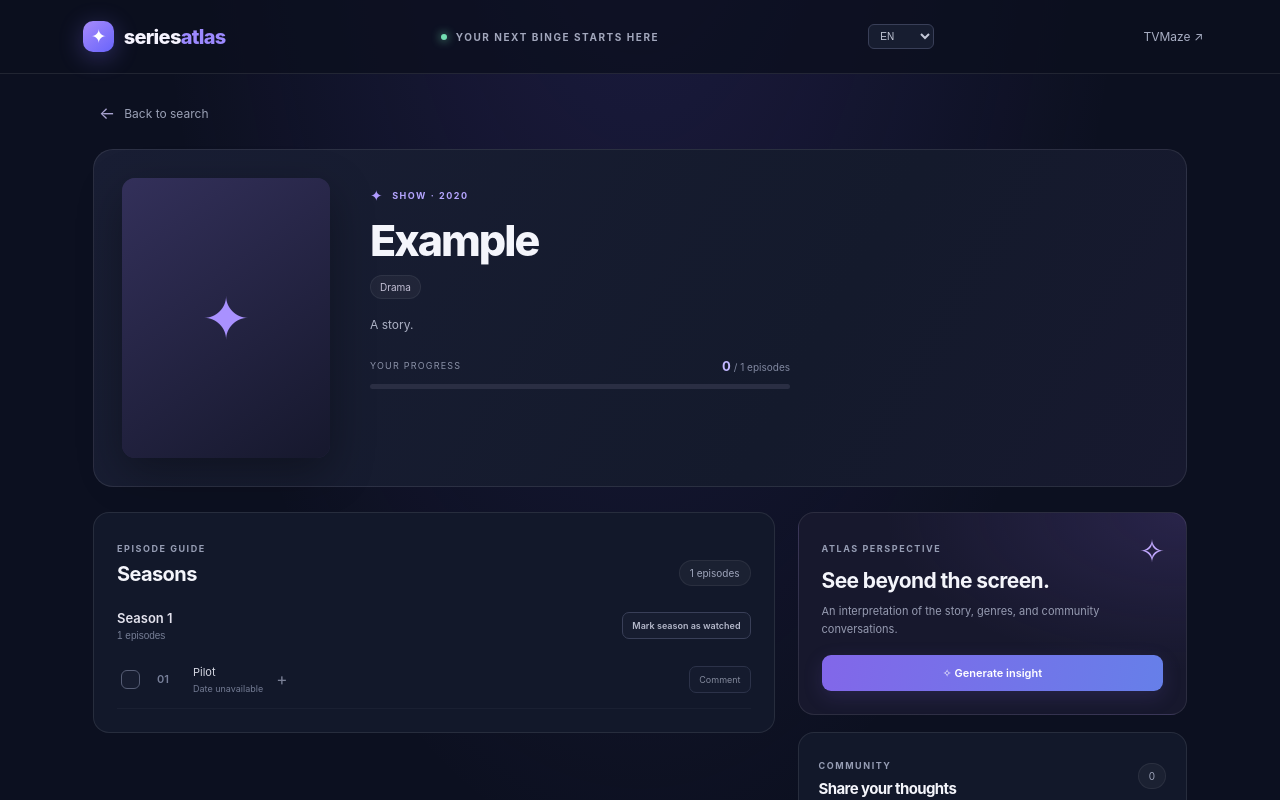
Test case: application entrypoint › marks an entire season as watched
This screenshot has width=1280, height=800.
Click the button "Mark season as watched".
click(686, 626)  # box [622,612,751,639]
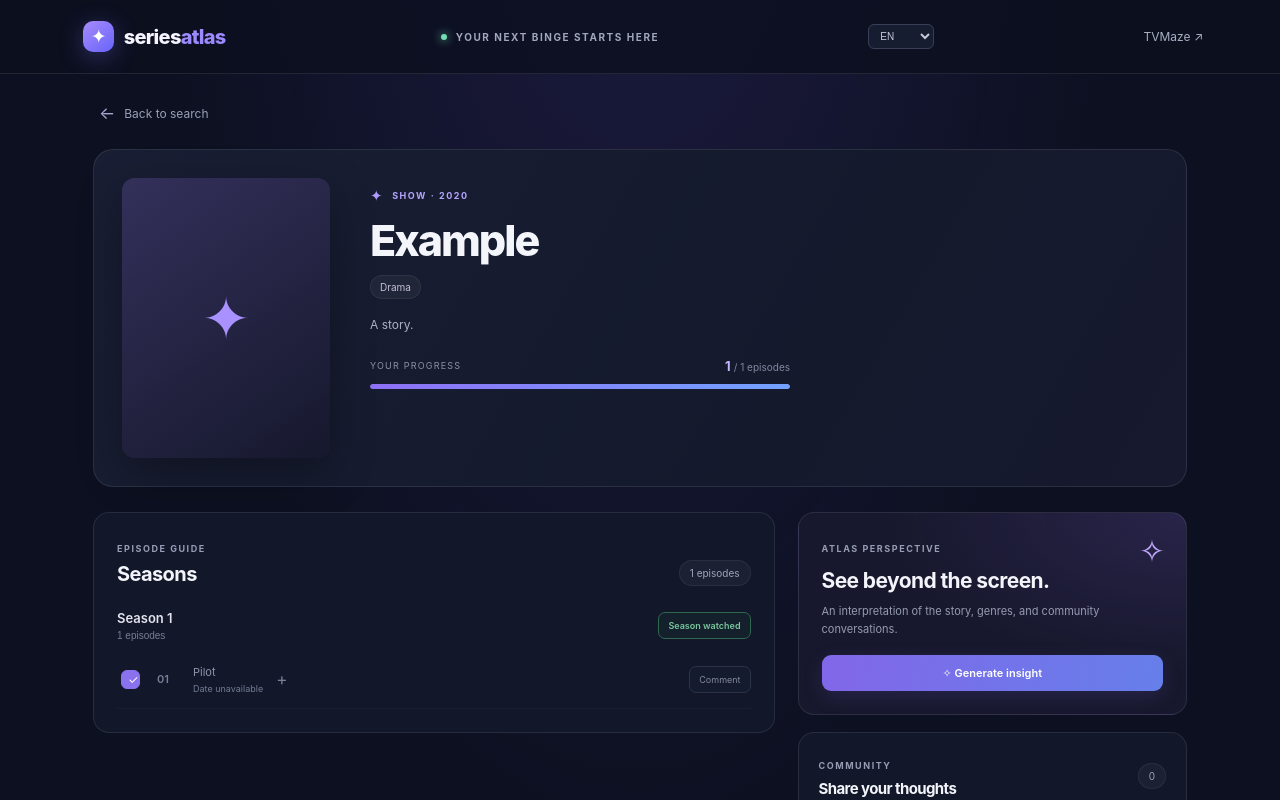
Check: the button named "Mark as unwatched" is shown, box [121,670,140,688]
